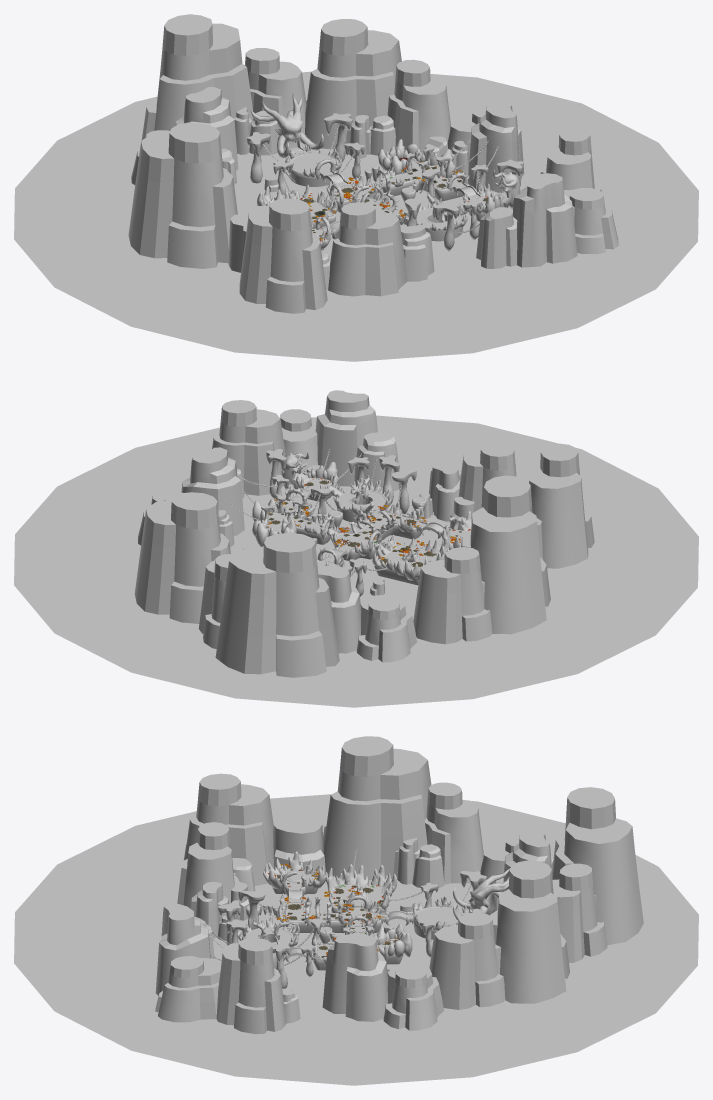
Rendered from Demo_Scene_V3.FBX.
3 views of the same model, one above another, from view 1: azimuth 30°, elevation 25°; view 2: azimuth 150°, elevation 25°; view 3: azimuth 270°, elevation 25° (orthographic).
Parts seen in each view (by area): view 1: Cylinder001, rock_cliff_007, rock_cliff_009, rock_cliff_006, rock_cliff_016, rock_cliff_004, rock_cliff_015, rock_cliff_010, rock_cliff_012, rock_cliff_017, rock_cliff_014, rock_cliff_013 (+16 smaller); view 2: Cylinder001, rock_cliff_016, rock_cliff_007, rock_cliff_009, rock_cliff_01, rock_cliff_006, rock_cliff_013, rock_cliff_015, rock_cliff_008, rock_cliff_012, rock_cliff_02, rock_cliff_004 (+9 smaller); view 3: Cylinder001, rock_cliff_007, rock_cliff_009, rock_cliff_016, rock_cliff_010, rock_cliff_006, rock_cliff_013, rock_cliff_012, rock_cliff_01, rock_cliff_017, rock_cliff_014, rock_cliff_011 (+10 smaller).
Part boxes in pixels (<box>): Cylinder001: <box>14,71,698,361</box>; rock_cliff_007: <box>128,122,237,268</box>; rock_cliff_009: <box>305,19,401,149</box>; rock_cliff_006: <box>239,198,327,313</box>; rock_cliff_016: <box>141,14,253,140</box>; rock_cliff_004: <box>328,202,407,296</box>; rock_cliff_015: <box>513,173,577,267</box>; rock_cliff_010: <box>387,59,450,154</box>; rock_cliff_012: <box>468,101,524,192</box>; rock_cliff_017: <box>245,48,306,142</box>; rock_cliff_014: <box>564,188,618,254</box>; rock_cliff_013: <box>540,127,601,191</box>; Cylinder001: <box>14,415,698,707</box>; rock_cliff_016: <box>215,532,339,677</box>; rock_cliff_007: <box>461,475,550,634</box>; rock_cliff_009: <box>134,492,230,623</box>; rock_cliff_01: <box>413,547,492,644</box>; rock_cliff_006: <box>529,443,594,568</box>; rock_cliff_013: <box>212,400,285,495</box>; rock_cliff_015: <box>315,390,377,486</box>; rock_cliff_008: <box>356,594,417,662</box>; rock_cliff_012: <box>181,447,244,536</box>; rock_cliff_02: <box>317,566,361,653</box>; rock_cliff_004: <box>458,443,521,511</box>; Cylinder001: <box>14,794,698,1085</box>; rock_cliff_007: <box>323,736,431,880</box>; rock_cliff_009: <box>490,860,569,1003</box>; rock_cliff_016: <box>552,787,643,945</box>; rock_cliff_010: <box>429,912,505,1009</box>; rock_cliff_006: <box>183,773,273,885</box>; rock_cliff_013: <box>216,937,286,1034</box>; rock_cliff_012: <box>322,934,387,1021</box>; rock_cliff_01: <box>424,782,483,884</box>; rock_cliff_017: <box>552,863,607,962</box>; rock_cliff_014: <box>155,956,221,1022</box>; rock_cliff_011: <box>383,963,443,1030</box>.
Bounding box in the file's own units: 20080 × 4025 × 19802.
